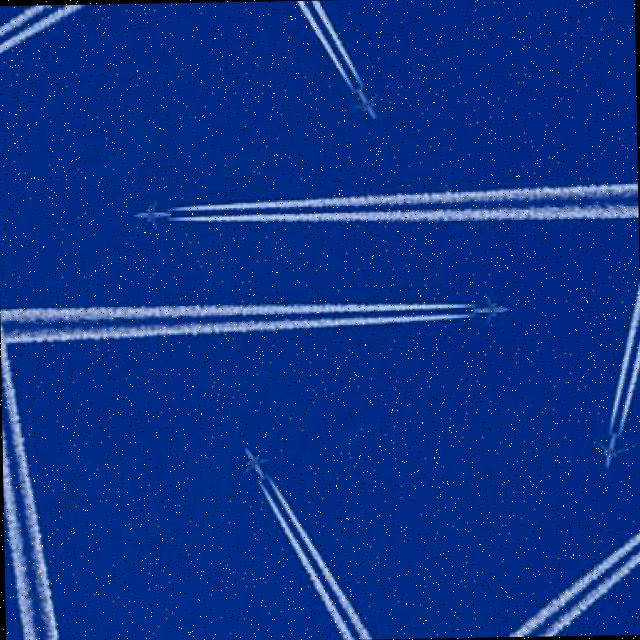Ct: (1, 1, 640, 634)
